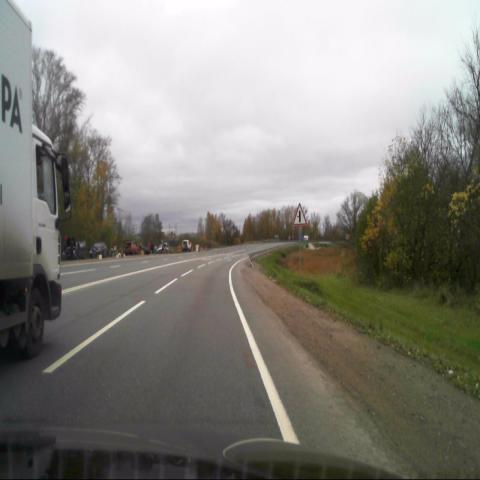2_3_3: (292, 203, 306, 226)
